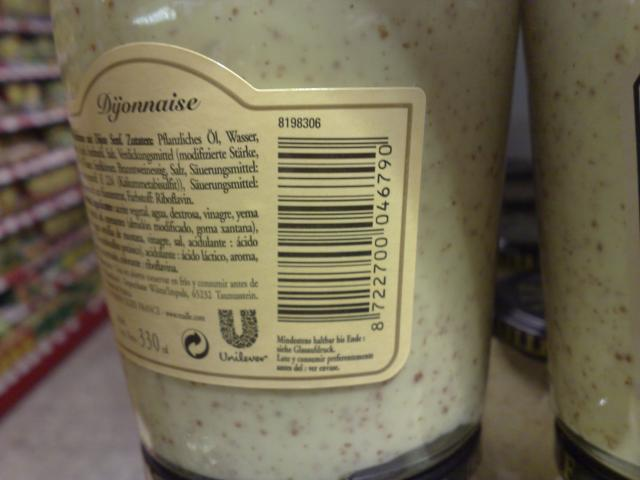Barcode: (270, 130, 399, 336)
